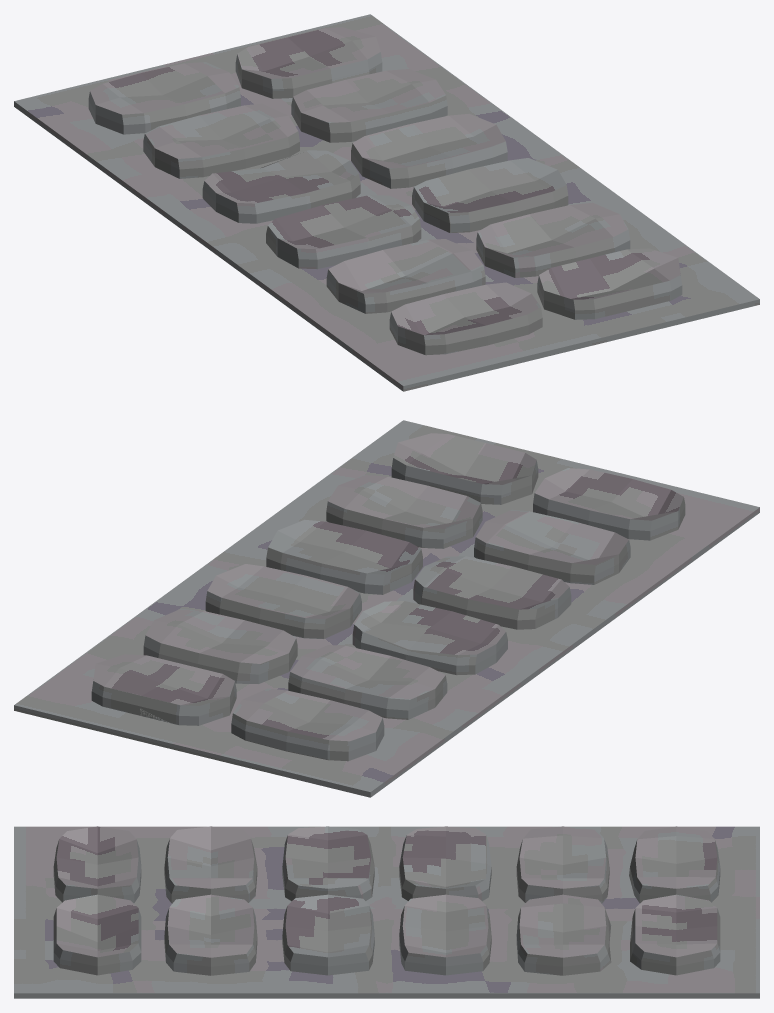
The model's file is Medicine panel1.2.fbx.
The picture shows the model from 3 angles, top to bottom: view 1: azimuth 30°, elevation 25°; view 2: azimuth 150°, elevation 25°; view 3: azimuth 270°, elevation 25°; orthographic projection. The views are drawn at different scales.
Visible parts, largest first — view 1: Cube.003; view 2: Cube.003; view 3: Cube.003.
Part boxes in pixels (x1,y1,x2,y2): Cube.003: [14, 14, 759, 391]; Cube.003: [14, 420, 759, 797]; Cube.003: [14, 826, 759, 998].
Size of the model in its own units: 253 by 17.69 by 479.
1 material, 1 textured.
